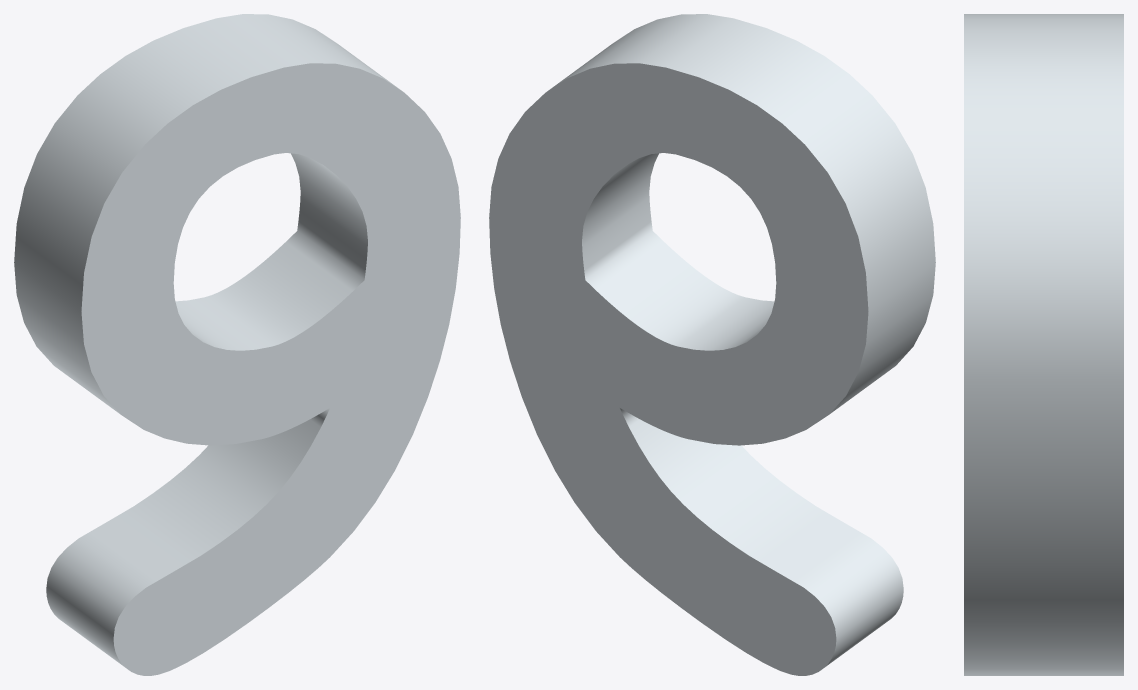
The model's file is NumberNine.fbx.
3 views of the same model, side by side, from view 1: azimuth 30°, elevation 25°; view 2: azimuth 150°, elevation 25°; view 3: azimuth 270°, elevation 25° (orthographic). The views are drawn at different scales.
Visible parts, largest first — view 1: Text.010; view 2: Text.010; view 3: Text.010.
Boxes of the visible parts, x1=… form: Text.010: x1=14, y1=14, x2=460, y2=675; Text.010: x1=489, y1=14, x2=935, y2=675; Text.010: x1=964, y1=14, x2=1123, y2=675.
Size of the model in its own units: 39.02 by 56.67 by 12.
